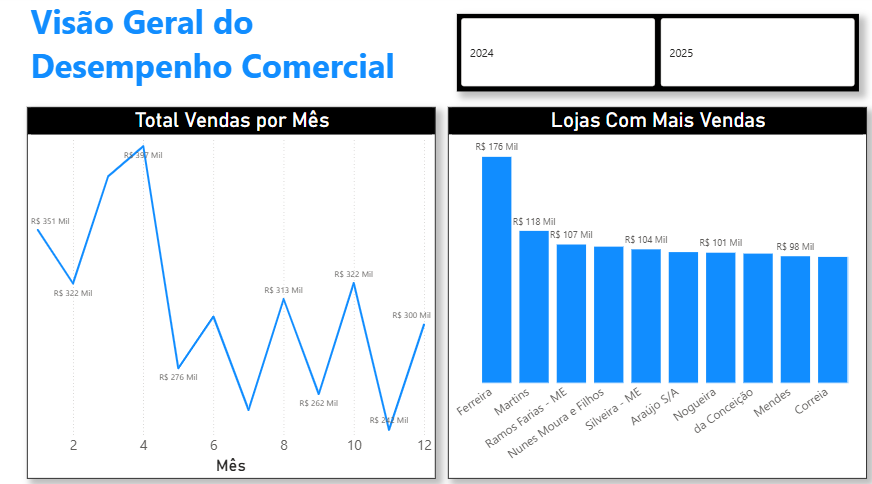

This screenshot's page, from the dashboard's own definition file:
{"tool":"powerbi","page":{"name":"Visão Geral de Negócio","canvas":[1280,720],"ordinal":0},"visuals":[{"type":"lineChart","fields":{"Category":["dCalendar.Mês"],"Y":["fSales.Total Vendas"]},"box":[42,164.6,598,544.3],"z":0},{"type":"clusteredColumnChart","title":"Lojas Com Mais Vendas","fields":{"Category":["dStores.Store_Name"],"Y":["fSales.Total Vendas"]},"box":[658.5,163.9,613.2,544.4],"z":2000},{"type":"advancedSlicerVisual","fields":{"Values":["dCalendar.Ano"]},"box":[671.7,27.8,588.3,112.7],"z":2001},{"type":"textbox","box":[42.4,0,616.1,150.7],"z":2002}]}

Visuals, with their boxes in screenshot pixels (x1, y1, x2, y2), scaled from the page's 1280x720 canvas onto the 872x484 screenshot:
lineChart - dCalendar.Mês x fSales.Total Vendas: bbox=(29, 111, 436, 477)
"Lojas Com Mais Vendas" clusteredColumnChart: bbox=(449, 110, 866, 476)
advancedSlicerVisual - dCalendar.Ano: bbox=(458, 19, 858, 94)
textbox: bbox=(29, 0, 449, 101)
